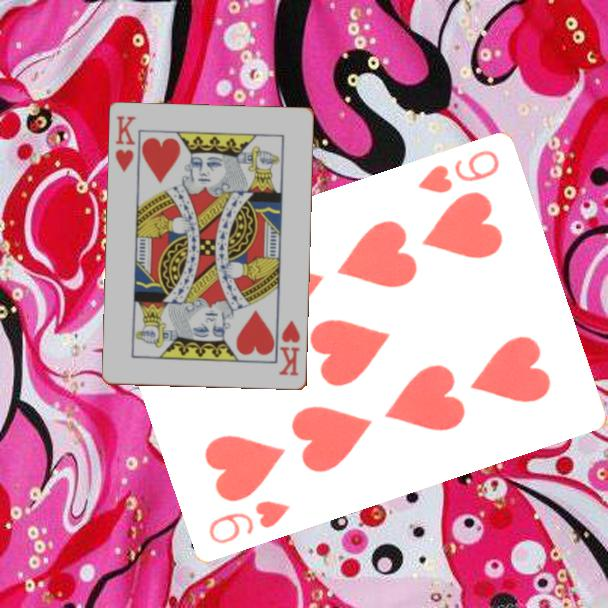h09: (204, 497, 293, 548), (413, 147, 503, 197)
h13: (276, 317, 303, 379), (112, 113, 139, 175)
